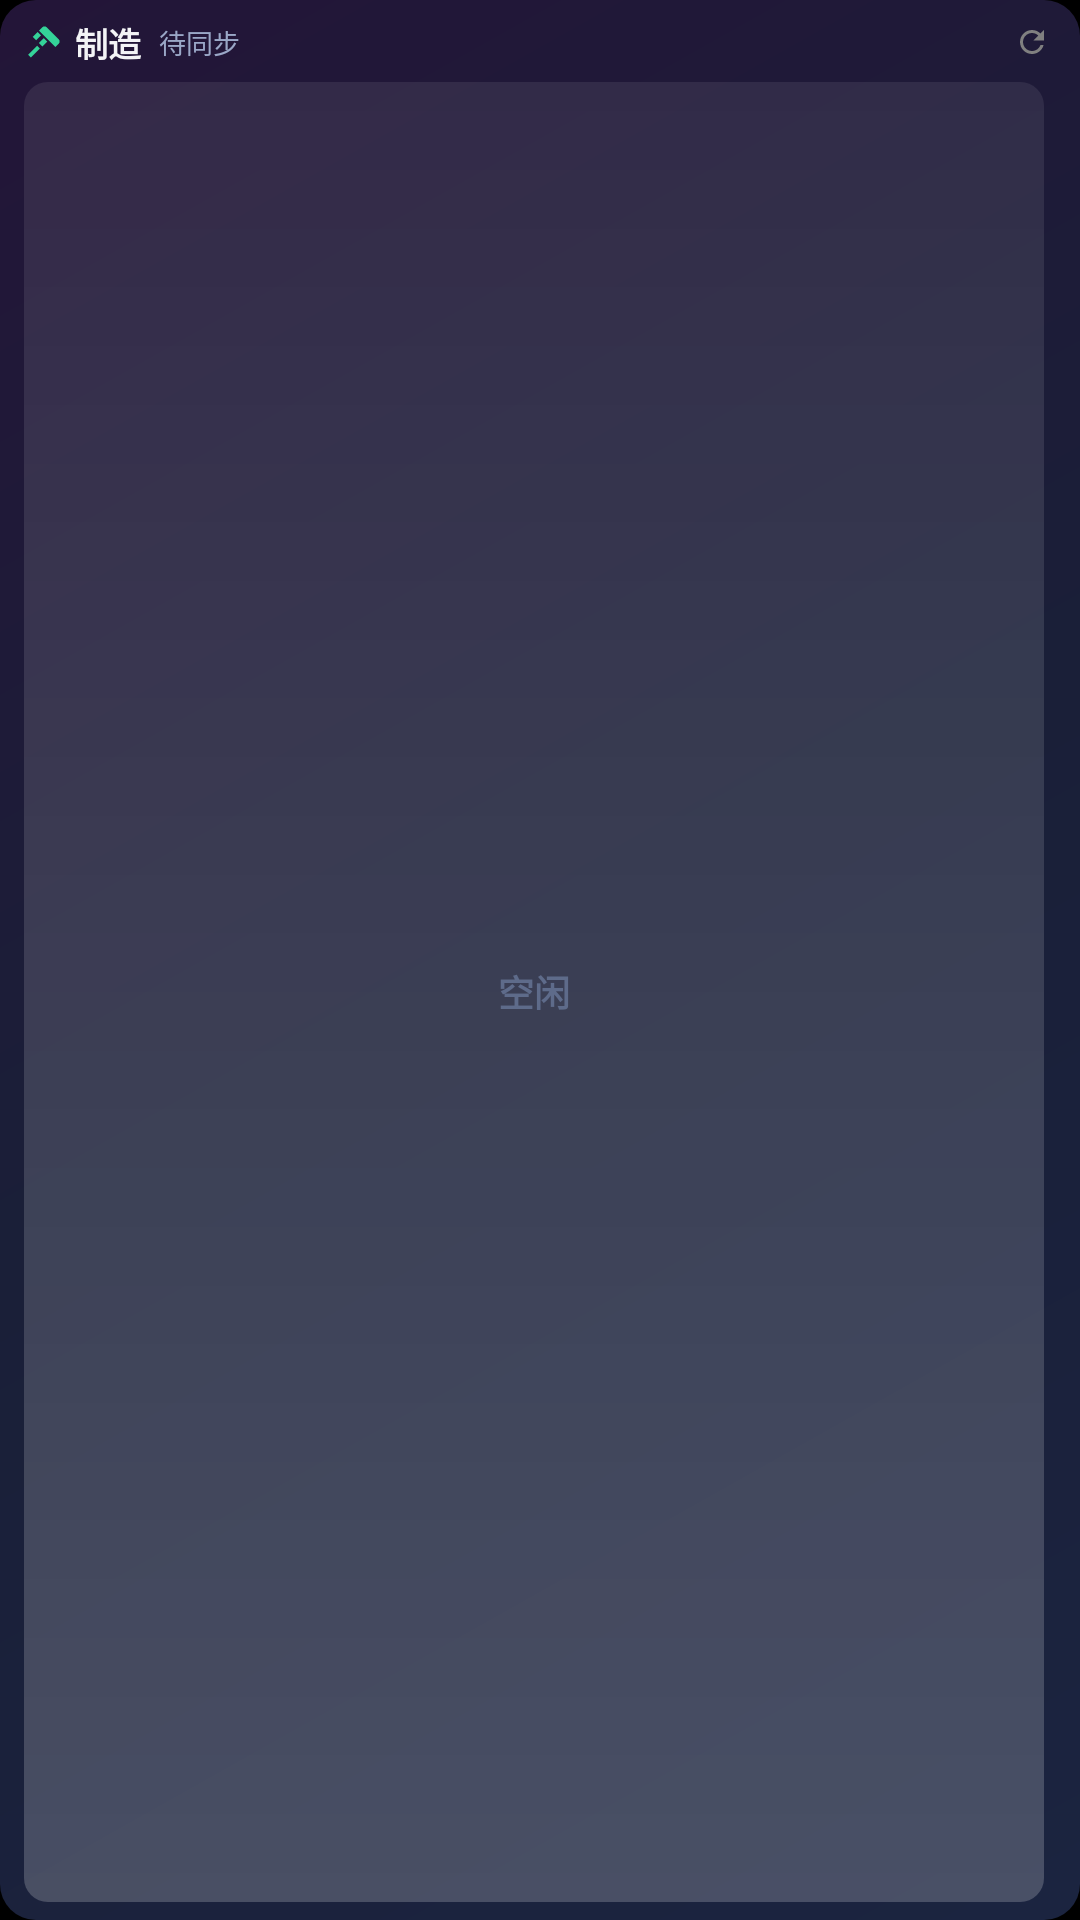

Where to tap for icons on this 1080×1920 app screen, as (x=x, y=y):
forge: (x=44, y=42)
refresh: (x=1032, y=42)
